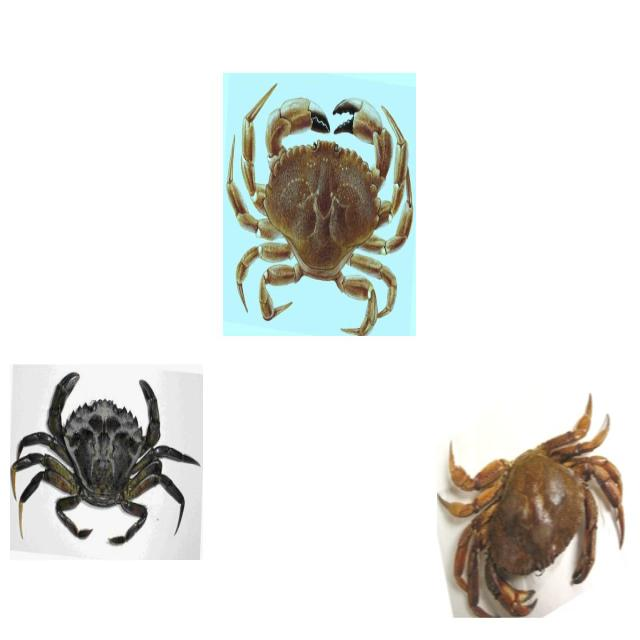egc: (9, 364, 203, 561)
jonah_crab: (223, 76, 415, 337)
rock_crab: (434, 399, 629, 618)
